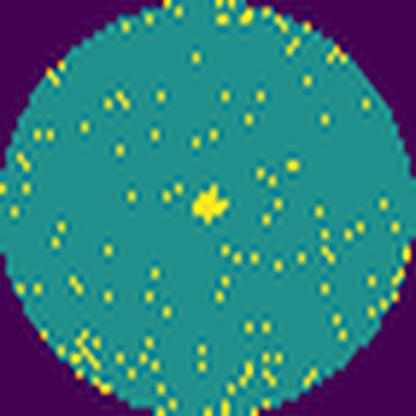Center: (194, 188, 230, 221)
